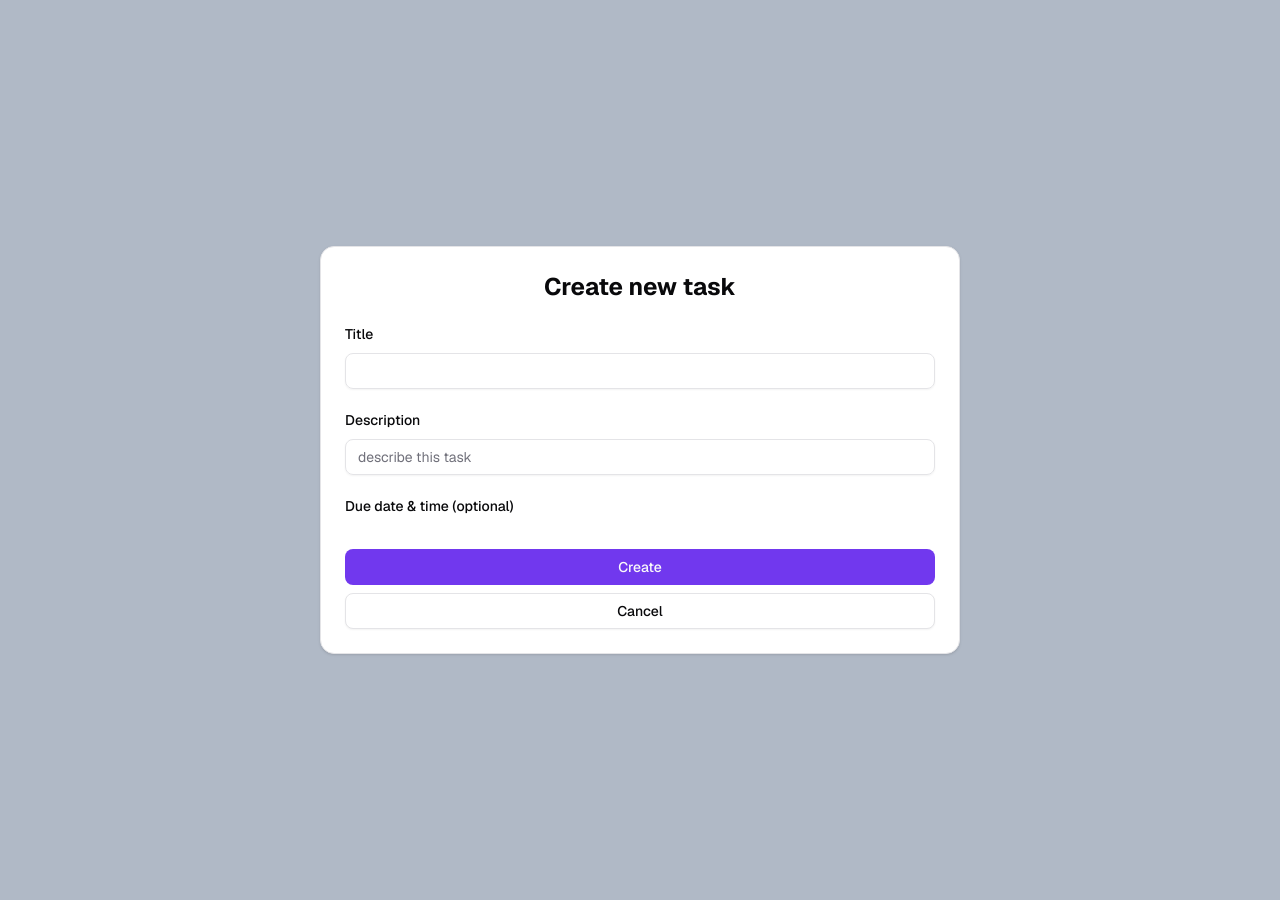
Test: NewTaskModal Component › shows validation error for empty title
Click the button with aria-label "Create Task": coordinates (640, 567) x1=345 y1=549 x2=935 y2=585
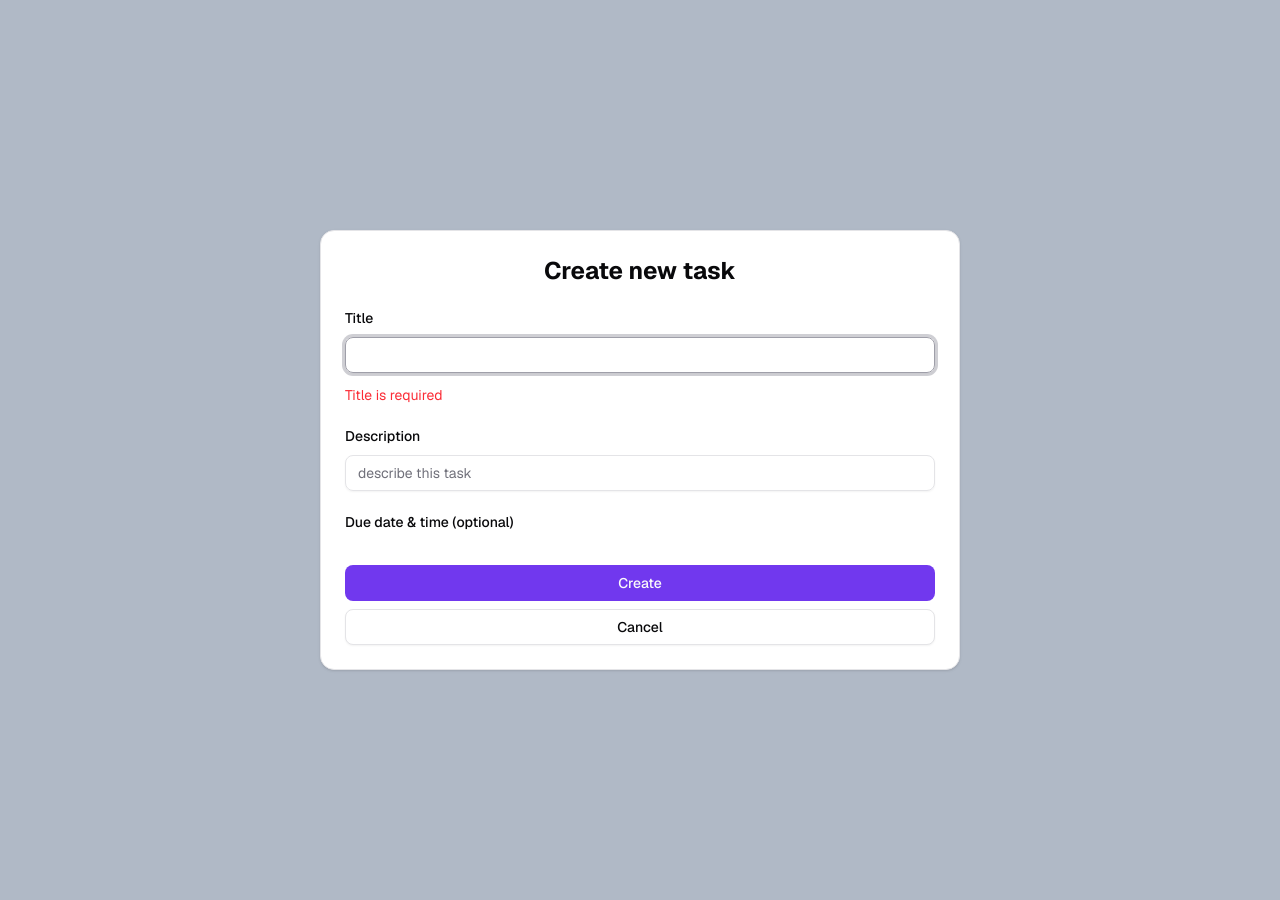
Now the text "Title is required" is shown, box x1=345 y1=386 x2=443 y2=404
